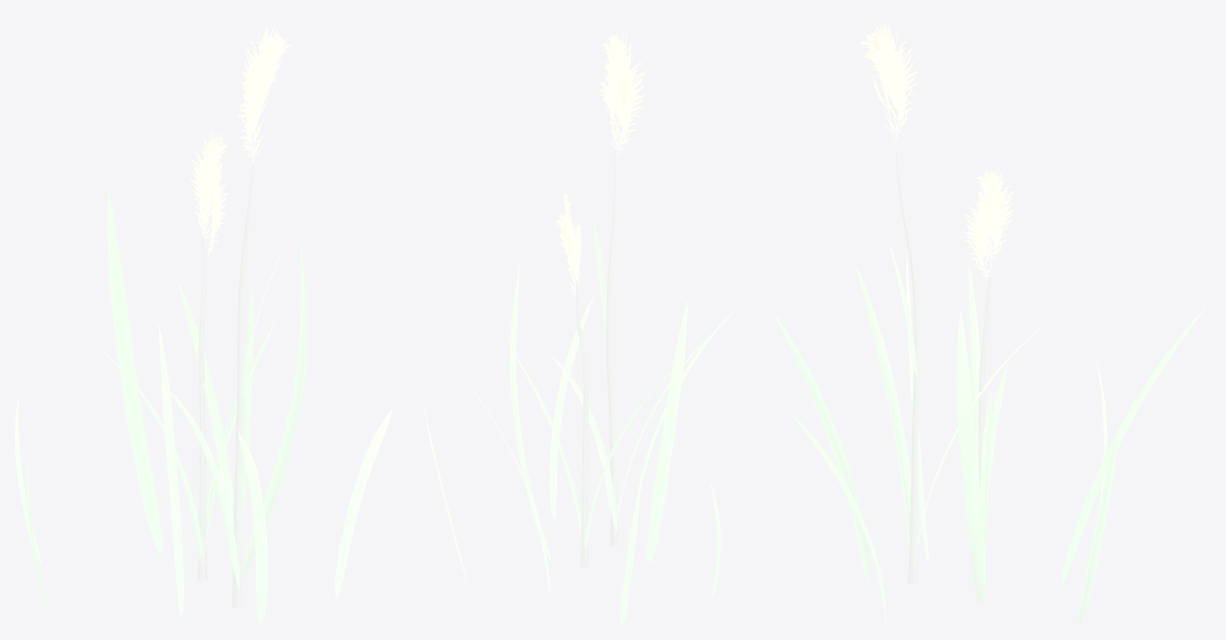
3 renders of one model, left to right at view 1: azimuth 30°, elevation 25°; view 2: azimuth 150°, elevation 25°; view 3: azimuth 270°, elevation 25°, orthographic. The views are drawn at different scales.
Visible parts, largest first — view 1: SM_Bullrush_02_LOD0; view 2: SM_Bullrush_02_LOD0; view 3: SM_Bullrush_02_LOD0.
Boxes of the visible parts, box(x1,y1,x2,y2) form: SM_Bullrush_02_LOD0: box(15, 23, 392, 624); SM_Bullrush_02_LOD0: box(423, 30, 736, 625); SM_Bullrush_02_LOD0: box(774, 23, 1206, 624).
Size of the model in its own units: 0.6799 by 1.38 by 0.945.
Materials: 1 (1 with a texture image).
